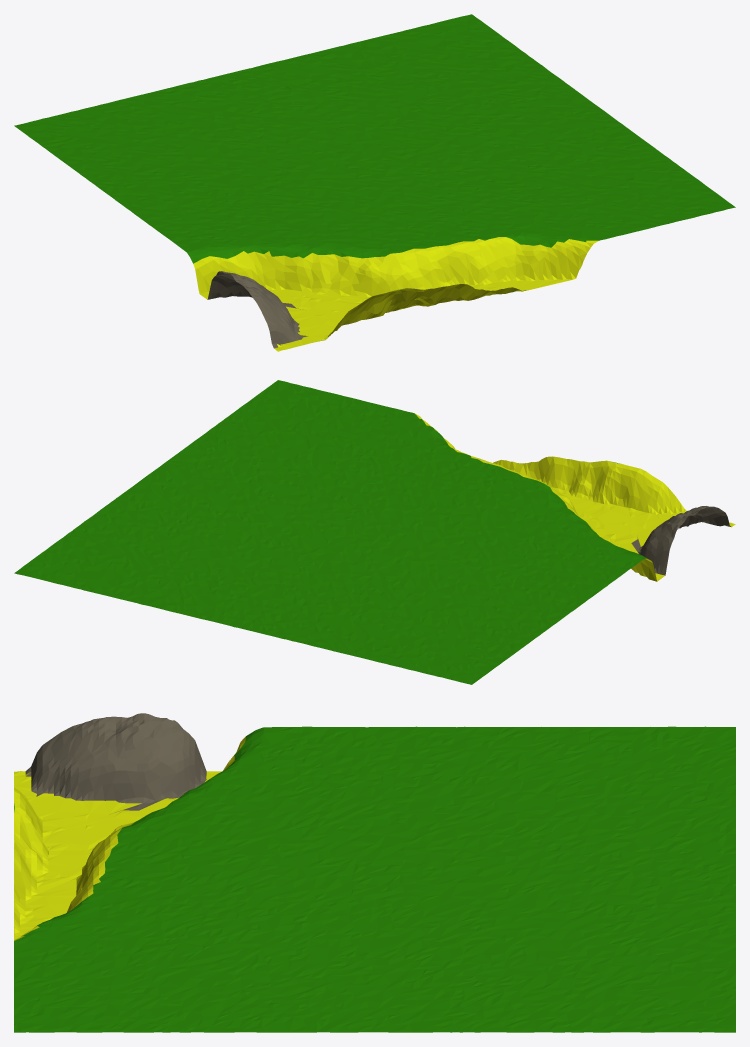
The picture shows the model from 3 angles, top to bottom: view 1: azimuth 30°, elevation 25°; view 2: azimuth 150°, elevation 25°; view 3: azimuth 270°, elevation 25°; orthographic projection. The views are drawn at different scales.
Visible parts, largest first — view 1: TerrainVeryHigh.007; view 2: TerrainVeryHigh.007; view 3: TerrainVeryHigh.007.
Part boxes in pixels (x1,y1,x2,y2): TerrainVeryHigh.007: (14, 14, 735, 351); TerrainVeryHigh.007: (14, 380, 735, 684); TerrainVeryHigh.007: (14, 713, 735, 1032).
Size of the model in its own units: 1251 by 1249 by 112.
